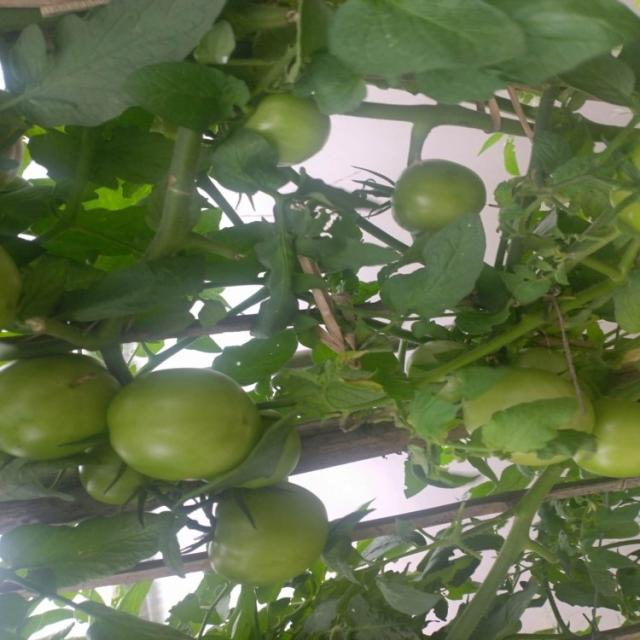tomato: (114, 353, 267, 490), (209, 474, 347, 596), (1, 344, 120, 462), (460, 359, 578, 463), (392, 150, 496, 231), (581, 358, 640, 490), (245, 80, 331, 157), (78, 428, 139, 513)
